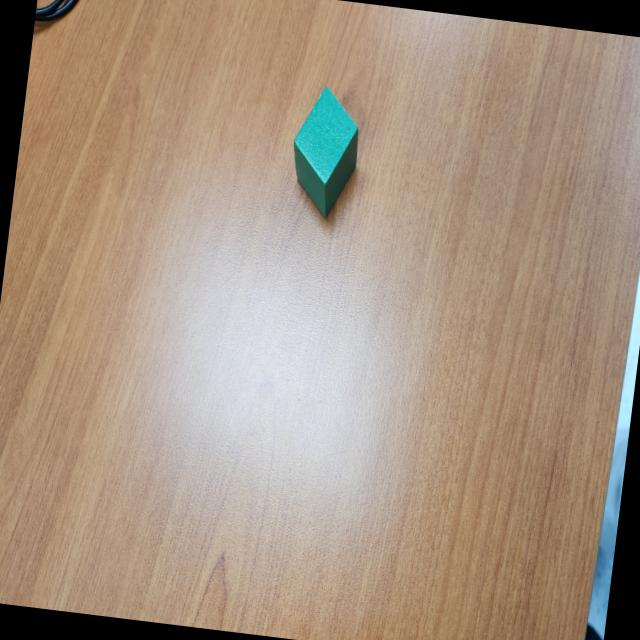green: (284, 83, 366, 222)
